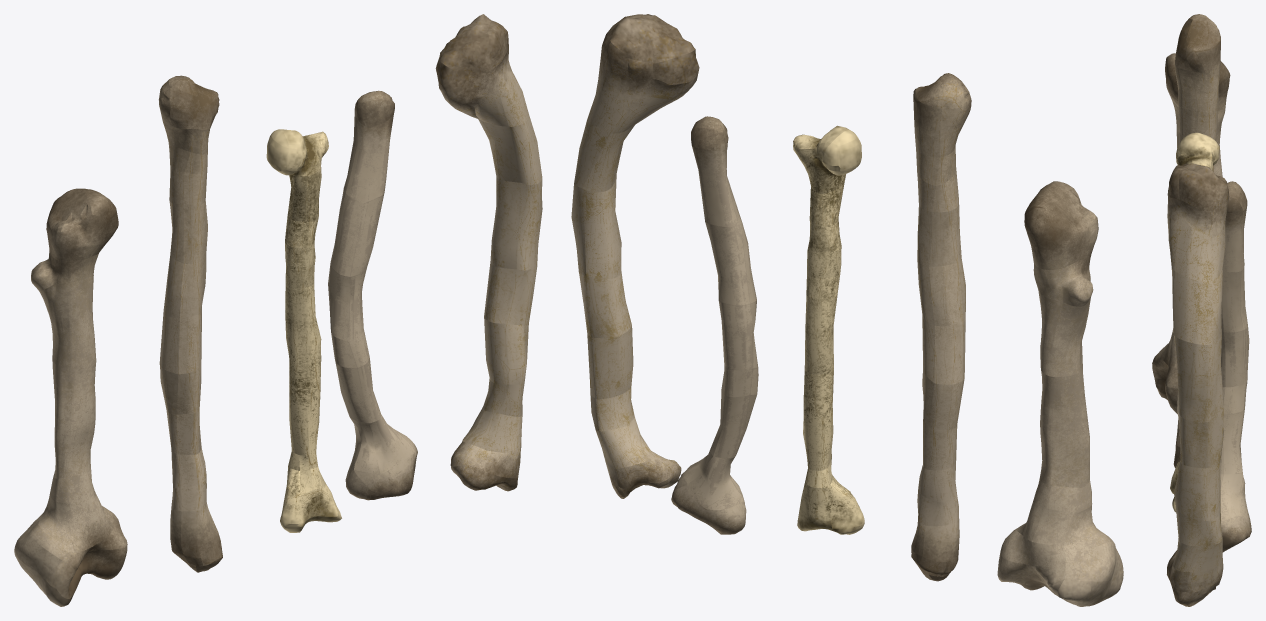
Rendered from kemik.glb.
3 renders of one model, left to right at view 1: azimuth 30°, elevation 25°; view 2: azimuth 150°, elevation 25°; view 3: azimuth 270°, elevation 25°, orthographic. The views are drawn at different scales.
Visible parts, largest first — view 1: polySurface4, polySurface3, polySurface2, polySurface5, polySurface1; view 2: polySurface4, polySurface3, polySurface2, polySurface5, polySurface1; view 3: polySurface4, polySurface5, polySurface2, polySurface3, polySurface1.
Part boxes in pixels (box(x1,y1,x2,y2)): polySurface4: box(435, 14, 542, 491); polySurface3: box(14, 188, 127, 606); polySurface2: box(158, 75, 222, 572); polySurface5: box(328, 90, 417, 500); polySurface1: box(266, 129, 341, 532); polySurface4: box(571, 14, 699, 498); polySurface3: box(997, 181, 1123, 606); polySurface2: box(911, 73, 971, 581); polySurface5: box(671, 116, 758, 534); polySurface1: box(793, 125, 864, 534); polySurface4: box(1167, 163, 1229, 606); polySurface5: box(1220, 181, 1251, 552); polySurface2: box(1173, 14, 1220, 467); polySurface3: box(1152, 53, 1230, 413); polySurface1: box(1170, 132, 1219, 512).
Bounding box in the file's own units: 68.34 × 62.14 × 12.43.
Materials: 5 (5 with a texture image).
